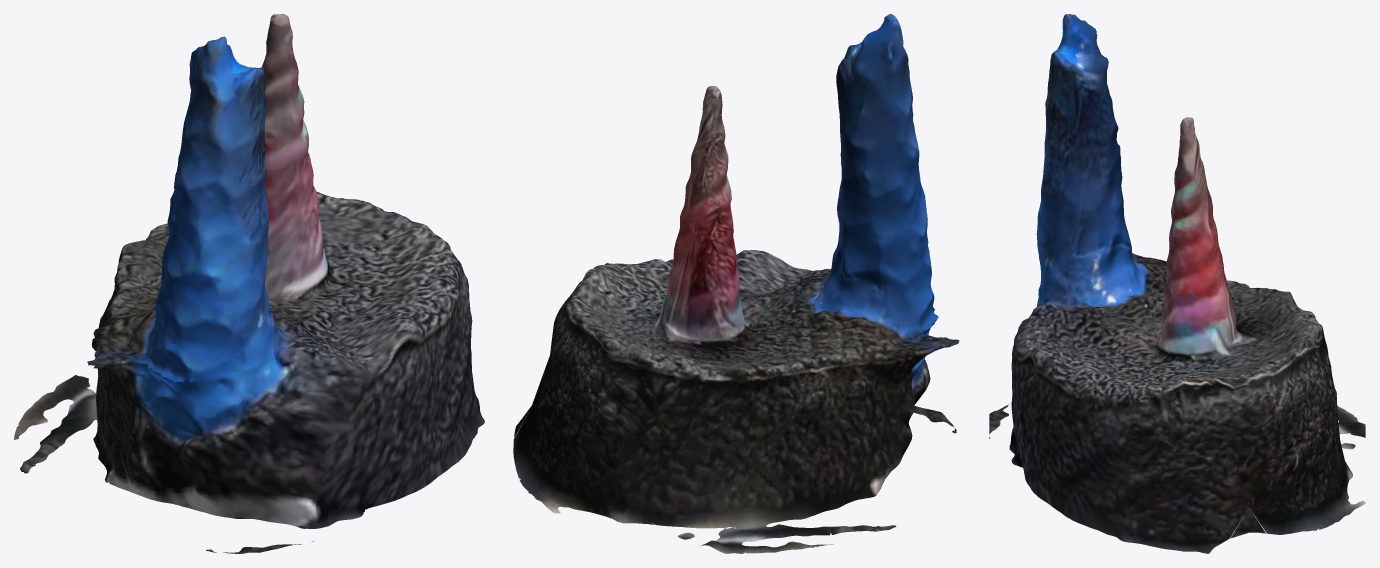
File: Ella_Giannetta.glb
3 views of the same model, side by side, from view 1: azimuth 30°, elevation 25°; view 2: azimuth 150°, elevation 25°; view 3: azimuth 270°, elevation 25° (orthographic). The views are drawn at different scales.
Parts seen in each view (by area): view 1: mesh; view 2: mesh; view 3: mesh.
Boxes of the visible parts, x1,y1,x2,y2 form: mesh: (14, 14, 484, 553); mesh: (513, 14, 959, 553); mesh: (989, 14, 1365, 553).
Bounding box in the file's own units: 2.33 × 2.48 × 2.09.
1 material, 1 textured.
